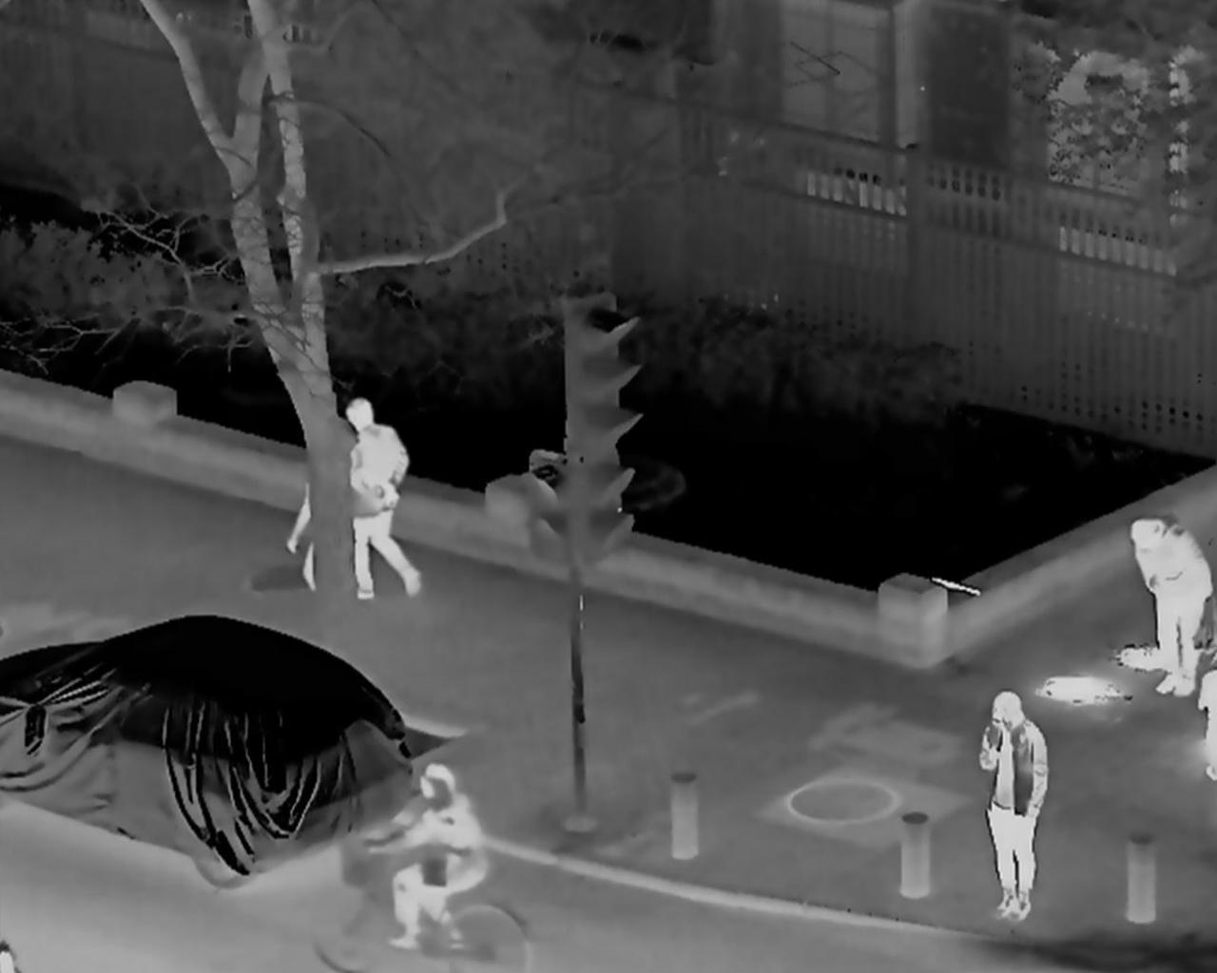person: (369, 771, 490, 950), (339, 399, 422, 612), (981, 693, 1045, 927), (1126, 515, 1206, 696)
